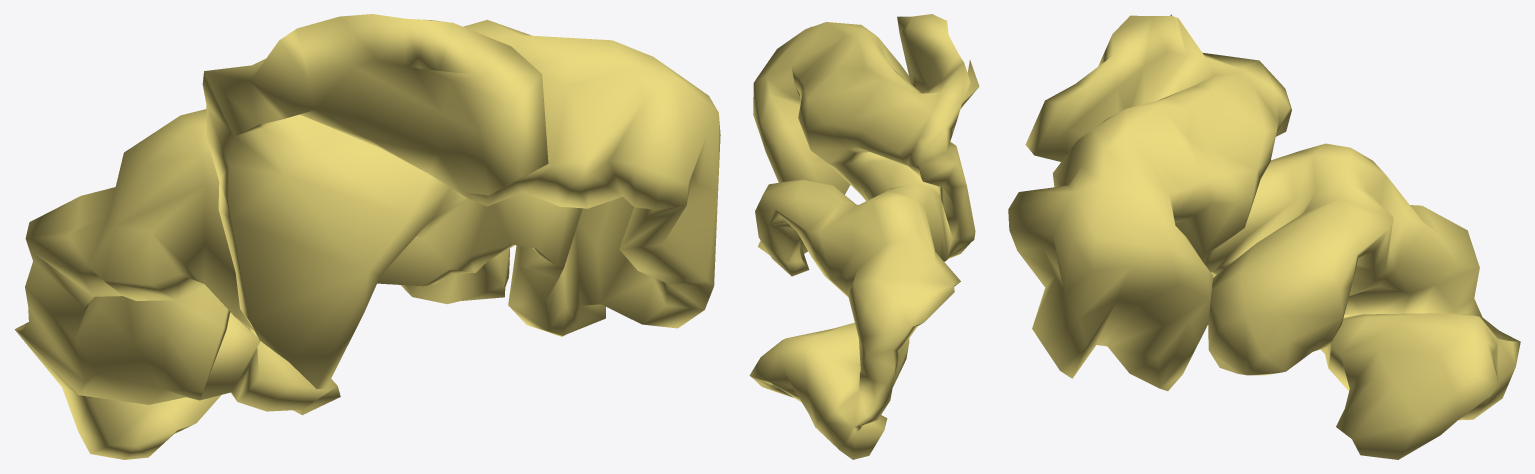
Rendered from superior-parietal-lobule-l.glb.
3 renders of one model, left to right at view 1: azimuth 30°, elevation 25°; view 2: azimuth 150°, elevation 25°; view 3: azimuth 270°, elevation 25°, orthographic. The views are drawn at different scales.
Visible parts, largest first — view 1: Superior parietal lobule.l; view 2: Superior parietal lobule.l; view 3: Superior parietal lobule.l.
Boxes of the visible parts, x1,y1,x2,y2 form: Superior parietal lobule.l: (14,14,720,459); Superior parietal lobule.l: (749,14,979,459); Superior parietal lobule.l: (1008,14,1520,459).
Size of the model in its own units: 0.0363 by 0.0418 by 0.0449.
